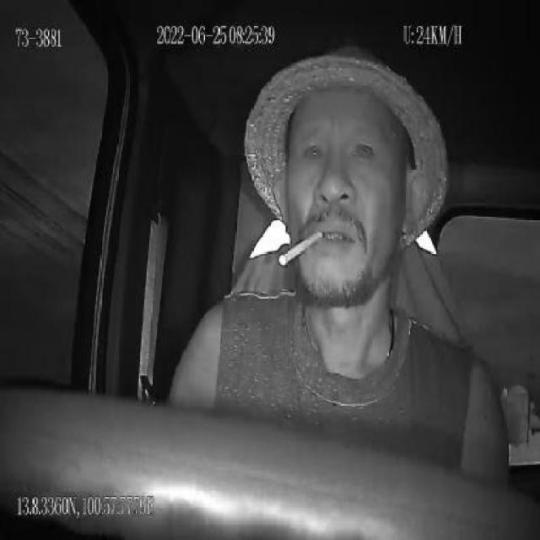smoking: (277, 232, 323, 270)
